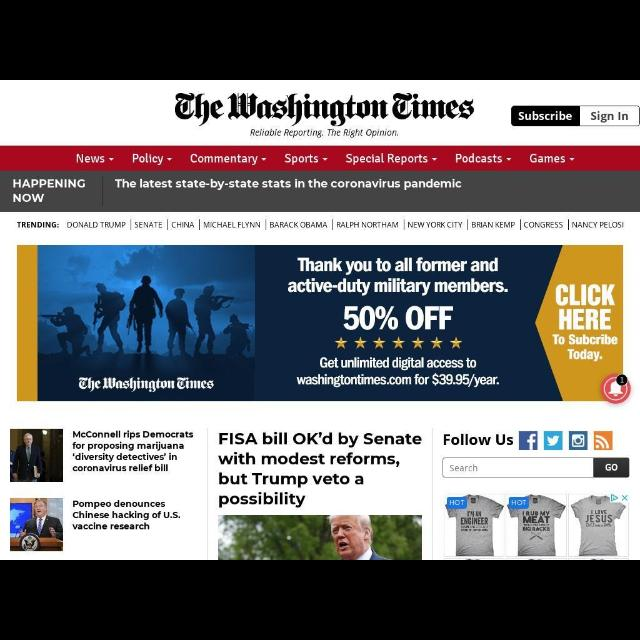icon: (432, 158, 438, 162), (168, 158, 172, 162), (262, 158, 266, 162), (570, 158, 574, 162), (108, 158, 114, 160), (322, 158, 328, 160), (506, 158, 512, 160)
iframe: (444, 494, 630, 560)
image: (16, 245, 624, 401), (172, 91, 476, 139), (218, 515, 422, 559), (10, 429, 64, 483), (10, 498, 62, 552), (600, 374, 632, 404), (518, 431, 538, 451), (544, 432, 564, 451), (594, 432, 612, 451), (569, 431, 587, 449)
input: (442, 458, 594, 478)
spinner: (346, 154, 438, 166), (190, 153, 266, 165), (456, 153, 512, 163), (286, 154, 328, 166), (133, 154, 173, 166), (530, 153, 574, 163), (76, 154, 114, 164)
text: (218, 430, 422, 510), (70, 431, 194, 472), (113, 177, 463, 191), (72, 500, 180, 530), (12, 178, 86, 204), (442, 432, 514, 448), (346, 154, 428, 166), (190, 153, 258, 165), (518, 110, 572, 122), (67, 221, 125, 229), (456, 153, 502, 163), (590, 111, 628, 123), (408, 221, 462, 229), (572, 221, 624, 229), (285, 154, 319, 166), (337, 222, 399, 228), (133, 154, 163, 166), (530, 153, 566, 163), (17, 220, 61, 228), (203, 222, 261, 228), (269, 222, 327, 228), (76, 153, 104, 163), (472, 222, 516, 228), (523, 222, 563, 228), (449, 464, 479, 472), (134, 222, 162, 228), (171, 222, 195, 228), (604, 463, 618, 471)
textbutton: (512, 106, 580, 126), (580, 106, 640, 126), (594, 458, 630, 478)
toolbar: (1, 146, 640, 170)
